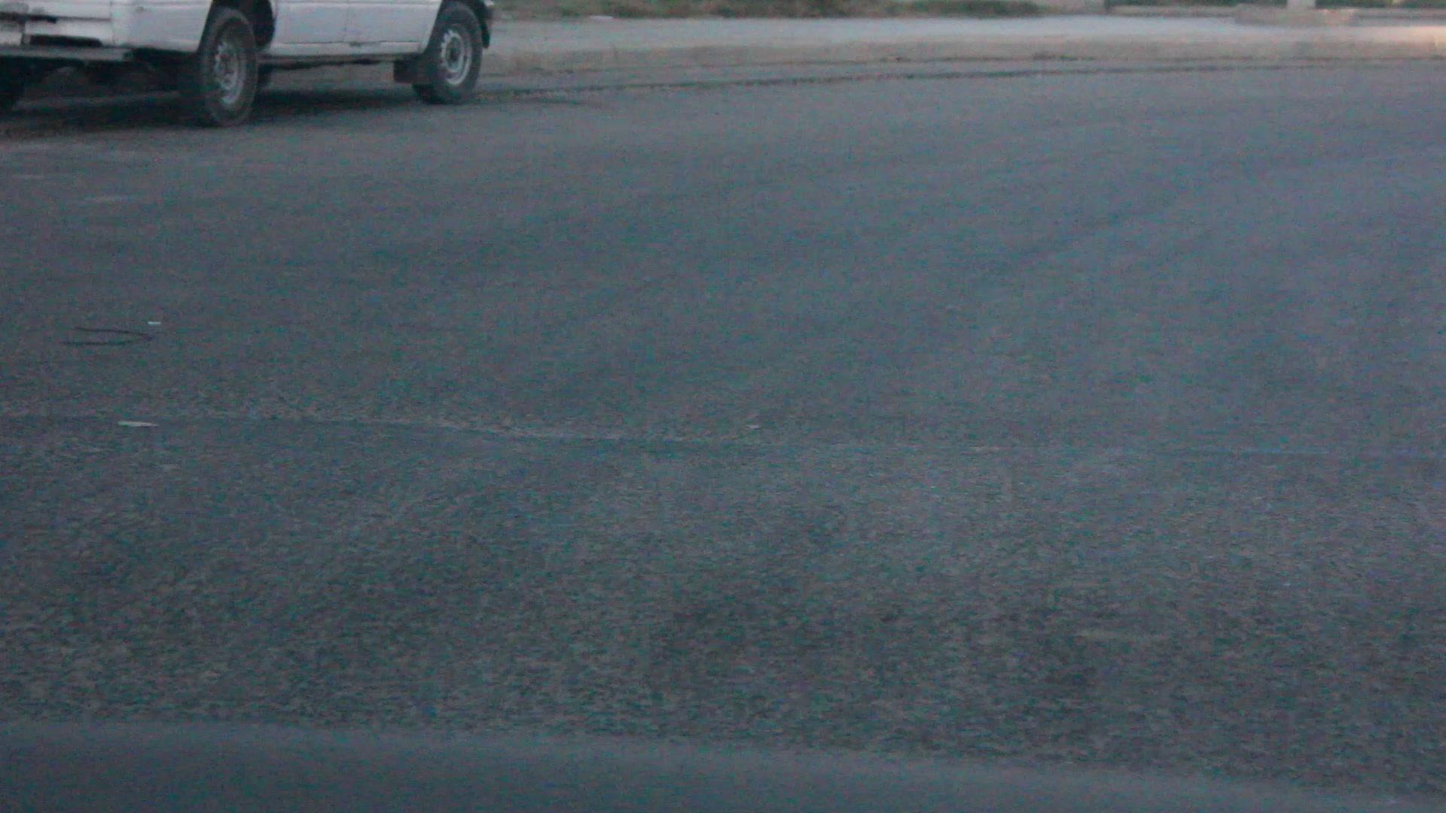Bump: (0, 408, 1446, 813)
